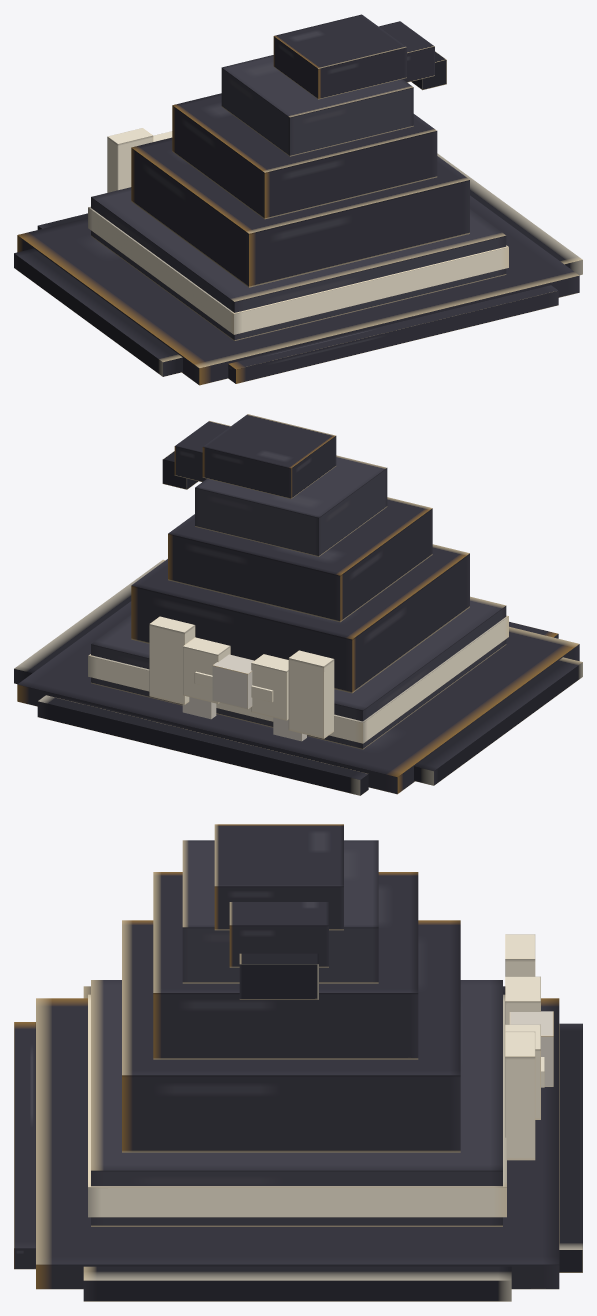
The model's file is marisa_hat.obj.
The picture shows the model from 3 angles, top to bottom: view 1: azimuth 30°, elevation 25°; view 2: azimuth 150°, elevation 25°; view 3: azimuth 270°, elevation 25°; orthographic projection. The views are drawn at different scales.
Visible parts, largest first — view 1: marisa_hat; view 2: marisa_hat; view 3: marisa_hat.
Boxes of the visible parts, x1,y1,x2,y2 form: marisa_hat: (14, 14, 582, 385); marisa_hat: (14, 414, 582, 795); marisa_hat: (14, 824, 582, 1301).
Bounding box in the file's own units: 19 × 9.91 × 15.52.
Materials: 1 (1 with a texture image).
